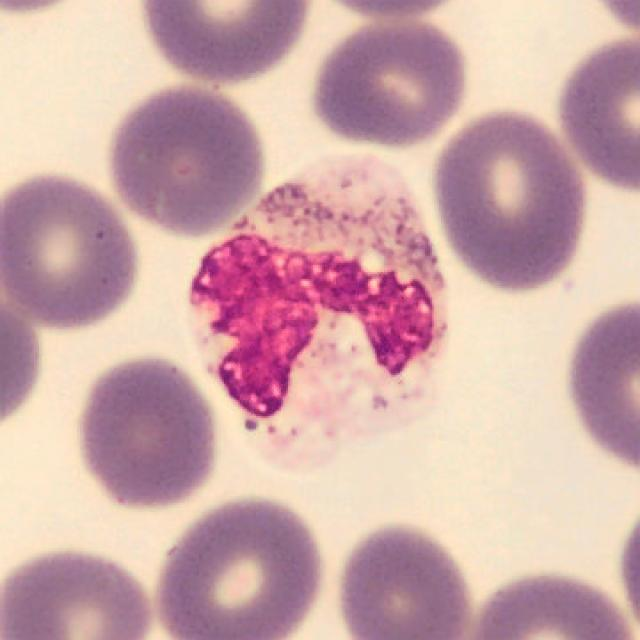Neutrofilo segmentado: (188, 156, 450, 466)
